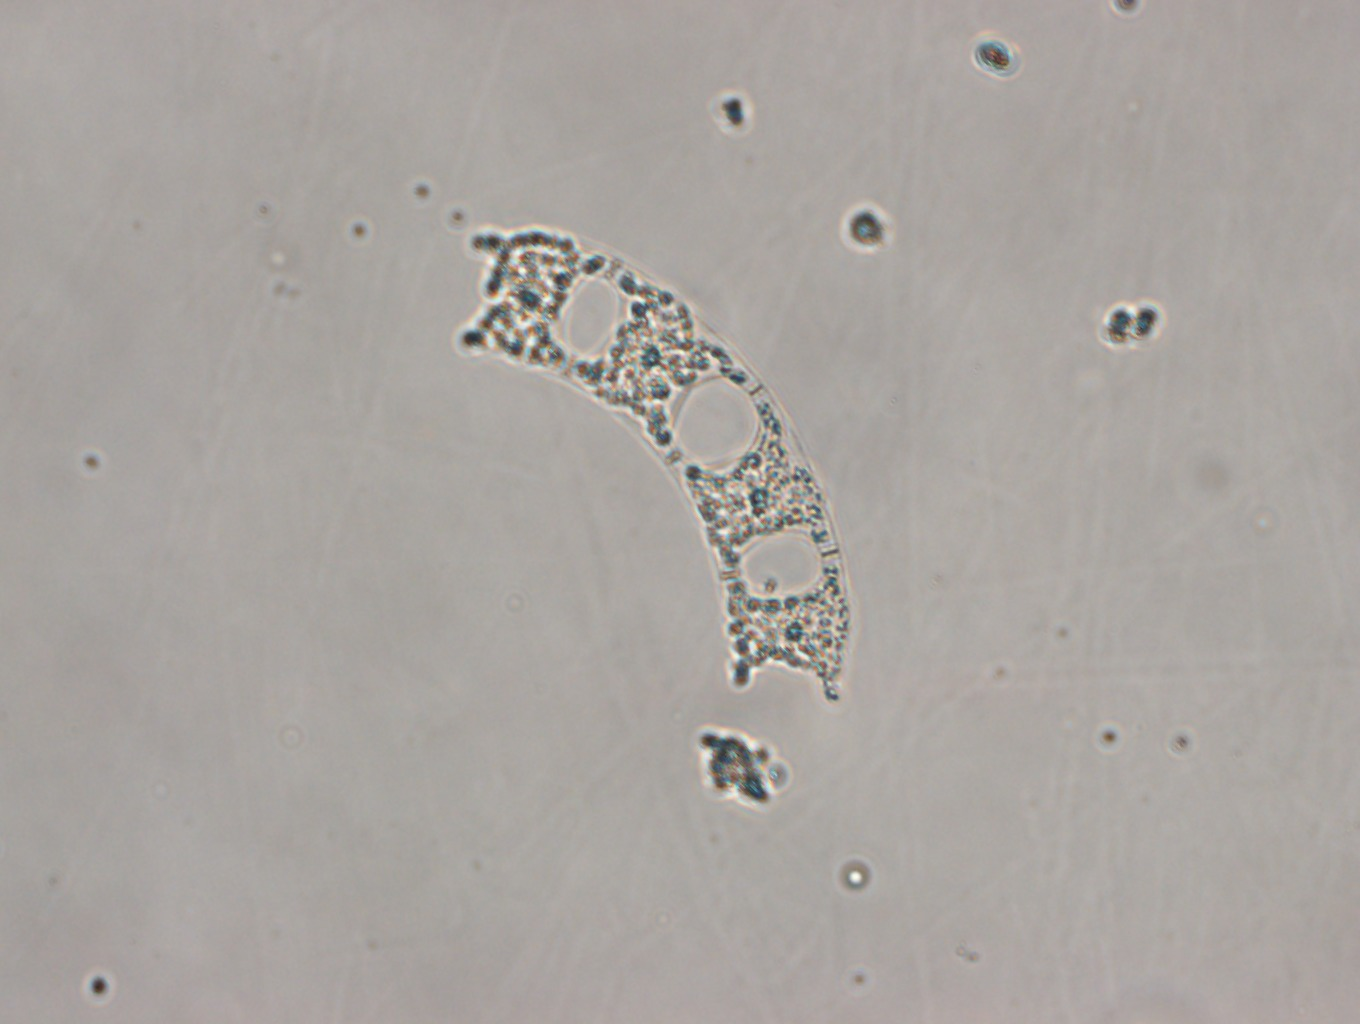eucampia: (449, 223, 850, 702)
